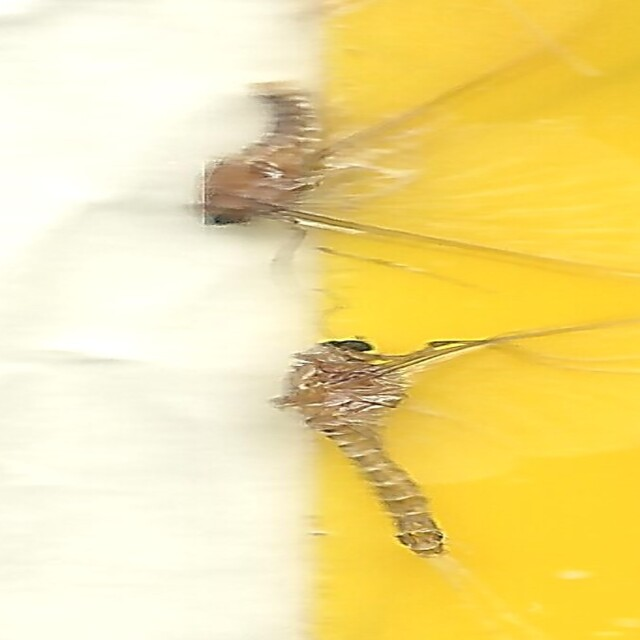Ephemeroptera: (282, 336, 452, 558), (188, 82, 325, 235)
